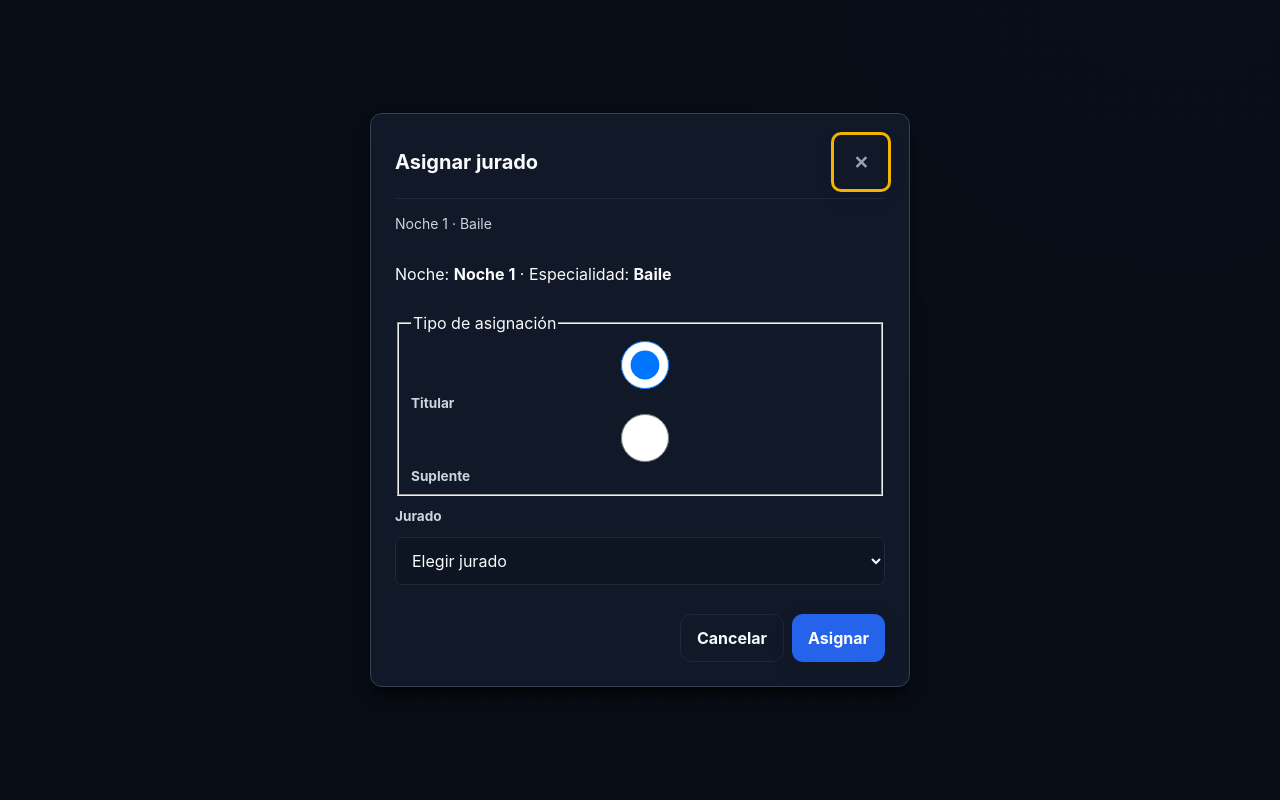
Test: Spec 027/G — interacción y accesibilidad › JudgeAssignmentDialog revela Suplente de solo con teclado
Expected: the field labelled "Suplente de" is not shown
Step 1. Click the radio button labelled "Suplente" → point(645, 438), box [416, 414, 874, 462]
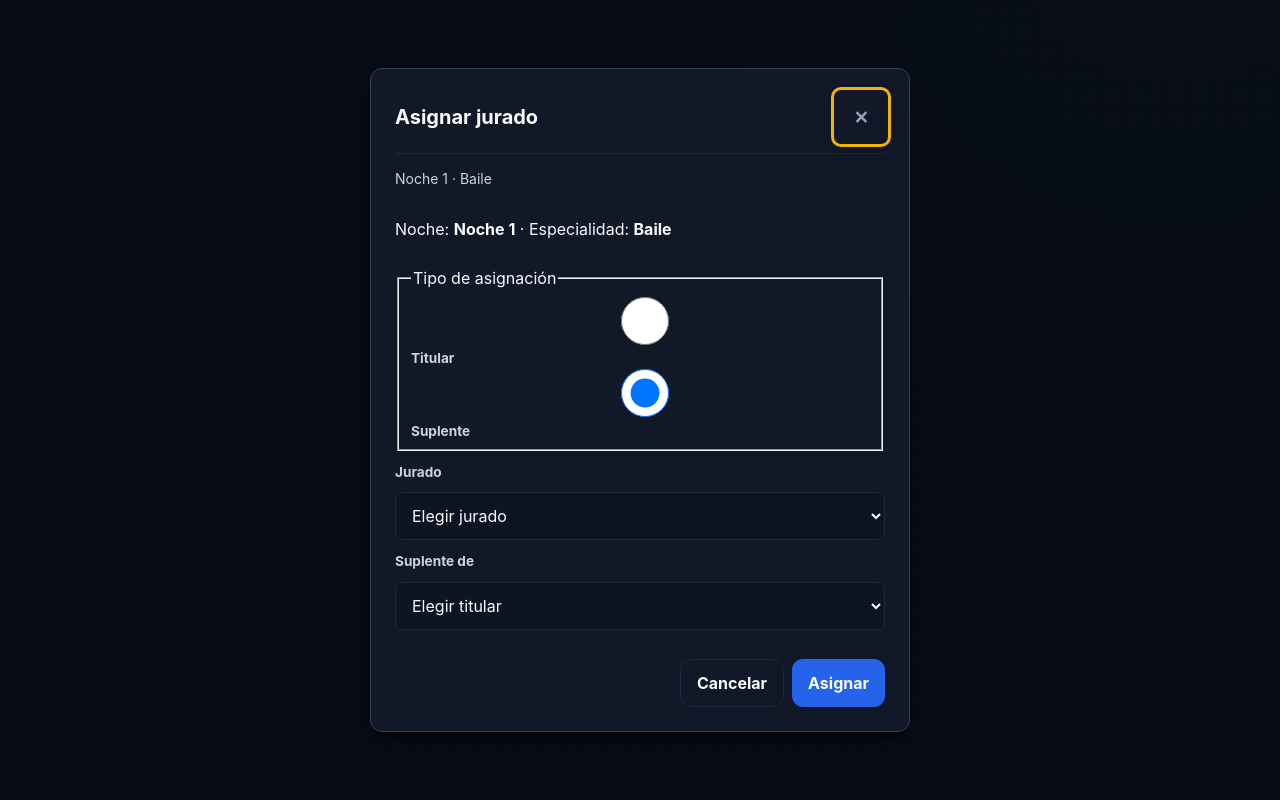
Result: the dropdown labelled "Suplente de" is shown at [395, 582, 885, 630]
Step 2. Click the radio button labelled "Titular" → point(645, 321), box [416, 297, 874, 345]
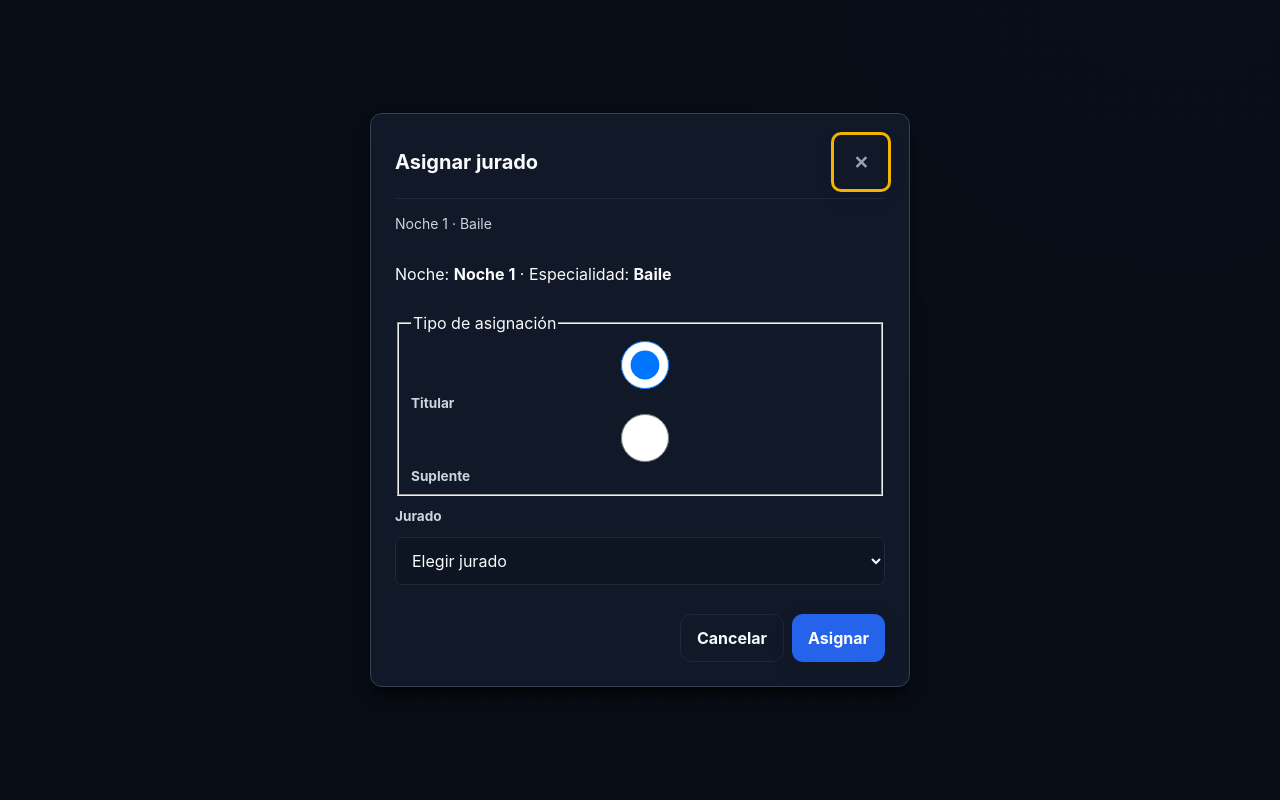
Result: the label labelled "Suplente de" is gone
